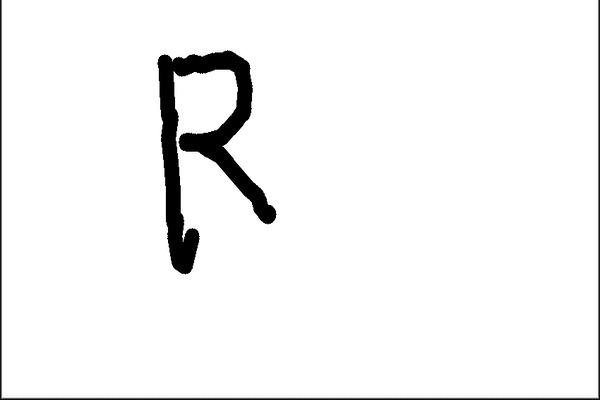R: (138, 47, 294, 279)
